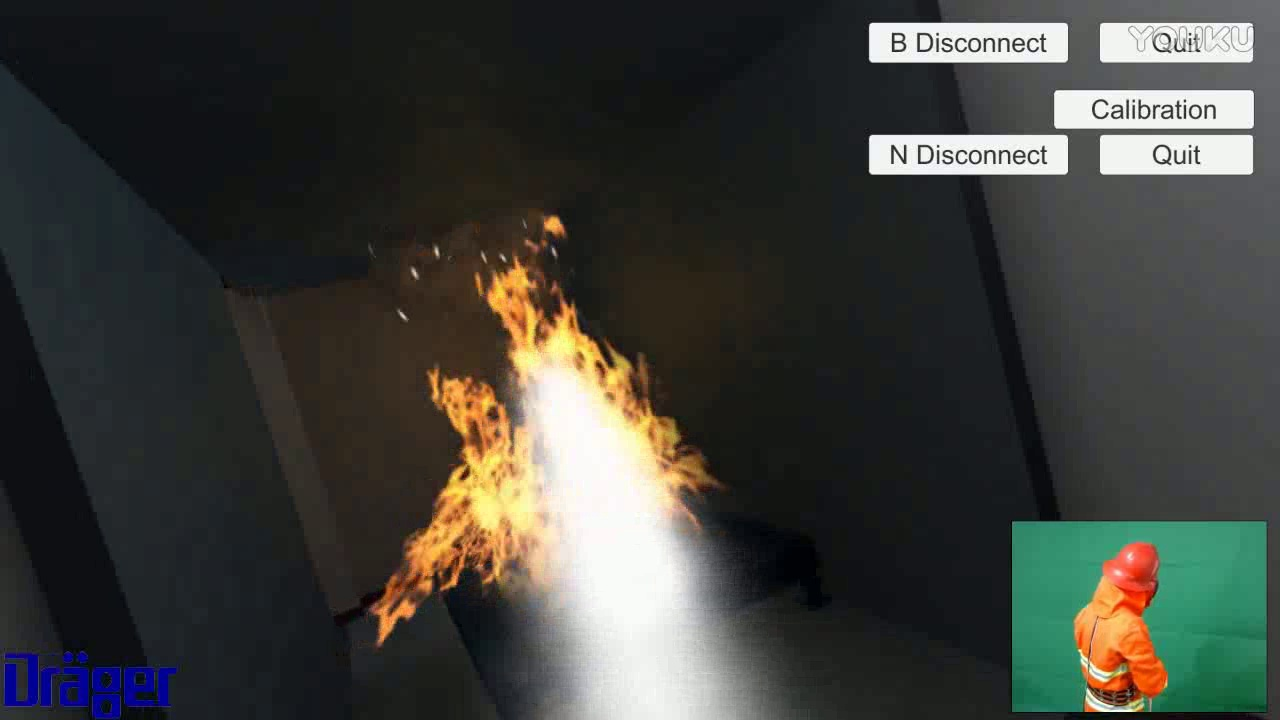fire: (363, 225, 728, 646)
